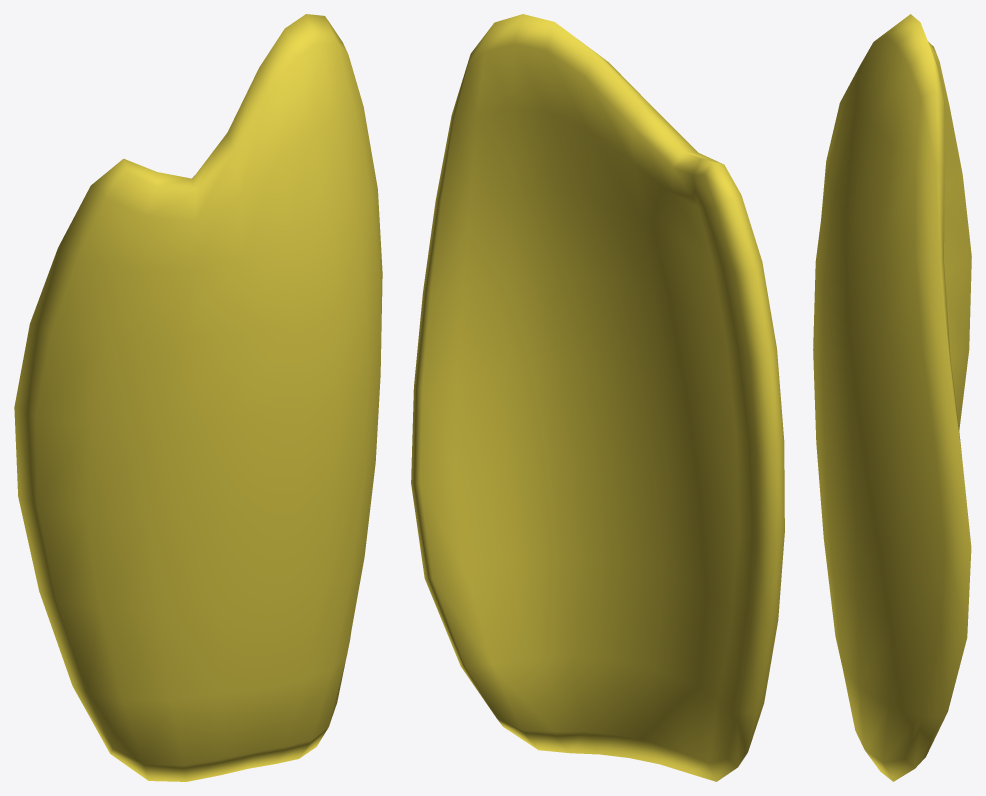
Rendered from petalo_dorado.fbx.
3 views of the same model, side by side, from view 1: azimuth 30°, elevation 25°; view 2: azimuth 150°, elevation 25°; view 3: azimuth 270°, elevation 25° (orthographic). The views are drawn at different scales.
Visible parts, largest first — view 1: petalo.dorado; view 2: petalo.dorado; view 3: petalo.dorado.
Boxes of the visible parts, x1,y1,x2,y2 form: petalo.dorado: [14, 14, 382, 781]; petalo.dorado: [411, 14, 784, 781]; petalo.dorado: [813, 14, 971, 781].
Size of the model in its own units: 7.7 by 15.05 by 2.84.
